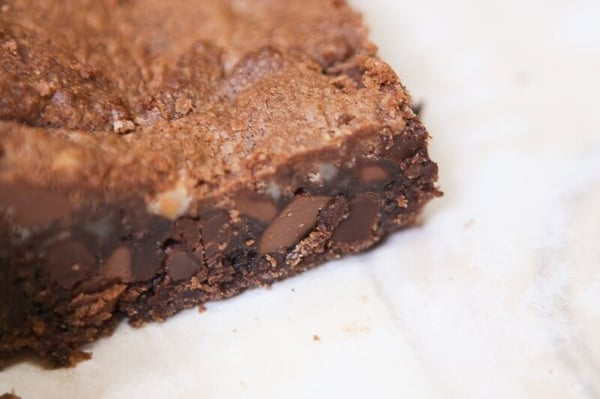soup: (1, 2, 443, 368)
